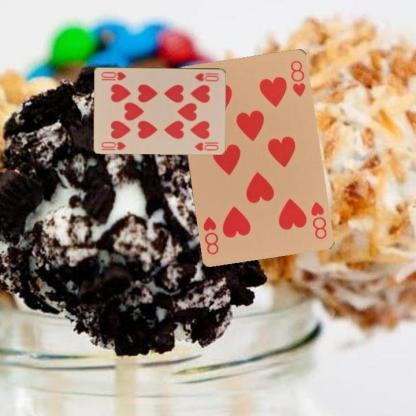10h: (193, 70, 220, 83), (98, 138, 127, 150)
8h: (308, 198, 328, 240)
